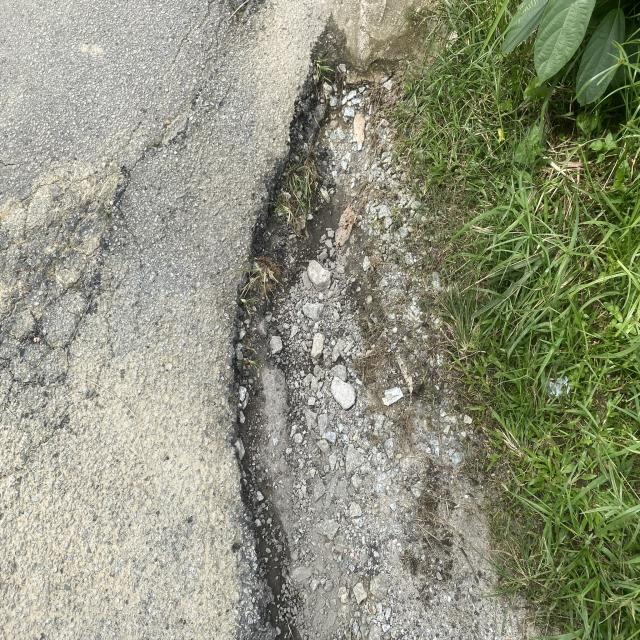pothole: (223, 0, 397, 635)
